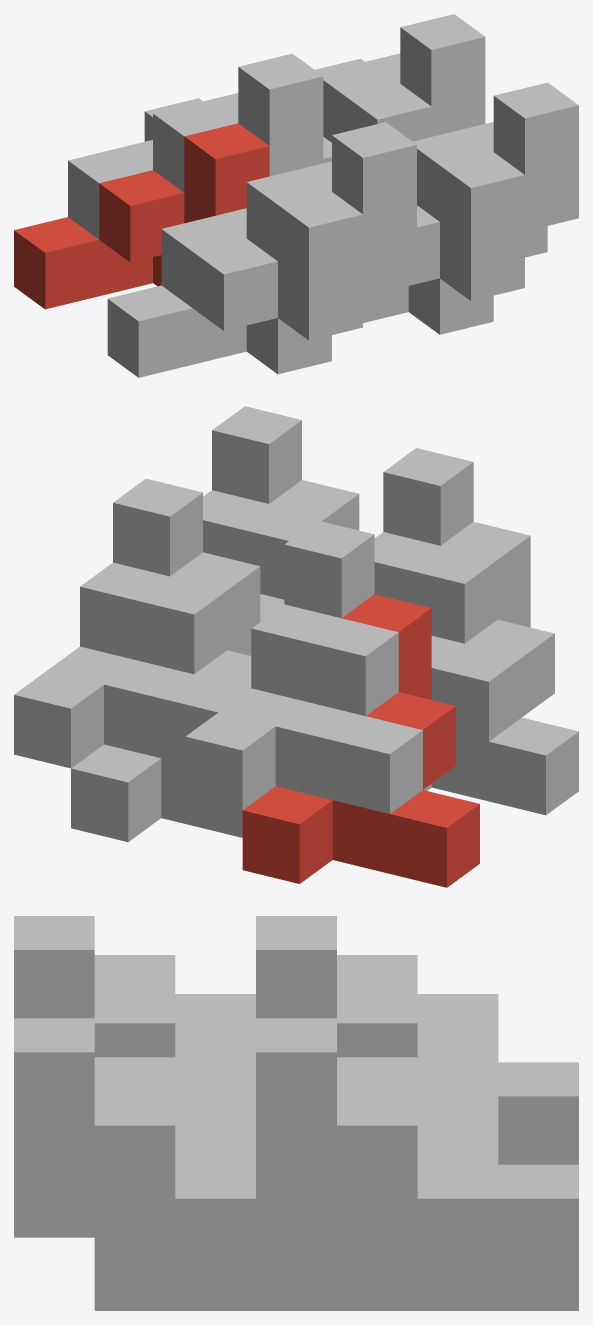
Rendered from tiling.obj.
3 renders of one model, top to bottom at view 1: azimuth 30°, elevation 25°; view 2: azimuth 150°, elevation 25°; view 3: azimuth 270°, elevation 25°, orthographic. The views are drawn at different scales.
Parts seen in each view (by area): view 1: copy_1_domain_2, copy_1_domain_1, copy_1_domain_4, copy_1_domain_6, copy_1_domain_3, copy_1_domain_8, copy_1_domain_7, copy_1_domain_5; view 2: copy_1_domain_3, copy_1_domain_7, copy_1_domain_1, copy_1_domain_4, copy_1_domain_2, copy_1_domain_5, copy_1_domain_8, copy_1_domain_6; view 3: copy_1_domain_7, copy_1_domain_8, copy_1_domain_3, copy_1_domain_4, copy_1_domain_6, copy_1_domain_5.
Part boxes in pixels (bbox=[...]): copy_1_domain_2: bbox=[107, 191, 362, 377]; copy_1_domain_1: bbox=[14, 123, 269, 309]; copy_1_domain_4: bbox=[161, 122, 416, 307]; copy_1_domain_6: bbox=[363, 152, 524, 334]; copy_1_domain_3: bbox=[68, 53, 323, 239]; copy_1_domain_8: bbox=[413, 82, 578, 257]; copy_1_domain_7: bbox=[315, 14, 485, 142]; copy_1_domain_5: bbox=[323, 84, 431, 163]; copy_1_domain_3: bbox=[185, 520, 422, 813]; copy_1_domain_7: bbox=[14, 478, 250, 768]; copy_1_domain_1: bbox=[242, 594, 479, 887]; copy_1_domain_4: bbox=[374, 448, 521, 741]; copy_1_domain_2: bbox=[423, 521, 578, 815]; copy_1_domain_5: bbox=[71, 552, 260, 841]; copy_1_domain_8: bbox=[203, 406, 326, 621]; copy_1_domain_6: bbox=[269, 480, 359, 530]; copy_1_domain_7: bbox=[256, 1018, 578, 1271]; copy_1_domain_8: bbox=[14, 1018, 336, 1271]; copy_1_domain_3: bbox=[256, 916, 578, 1164]; copy_1_domain_4: bbox=[14, 916, 255, 1096]; copy_1_domain_6: bbox=[14, 1198, 336, 1310]; copy_1_domain_5: bbox=[337, 1272, 578, 1310].
Bounding box in the file's own units: 7 × 4 × 7.
